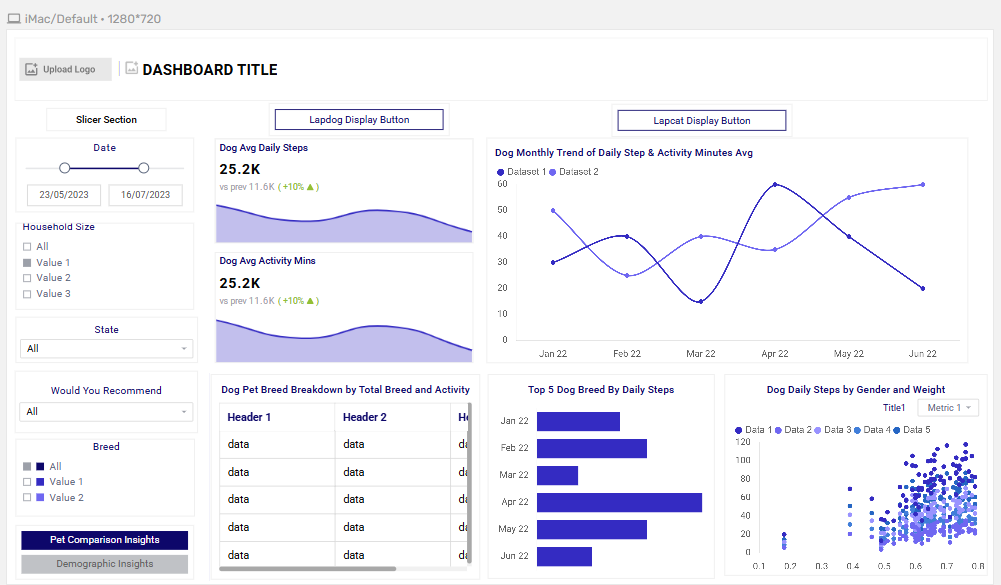

The dashboard page shown, as its layout file describes it:
{"tool":"powerbi","page":{"name":"Pet Comparison Insights","canvas":[1280,720],"ordinal":1},"visuals":[{"type":"shape","box":[246.2,6.8,1022,52.8],"z":0},{"type":"shape","box":[255,262.8,392.8,132.9],"z":1000},{"type":"areaChart","title":"Dog Monthly Trend of Daily_Step & Activity Minutes Avg","fields":{"Category":["Date_Table.Date.Variation.Date Hierarchy.Month"],"Y":["Avg(Tracker_Data.Daily_Steps)"],"Y2":["Avg(Tracker_Data.Activity_Minutes)"]},"box":[656.9,125.3,612.9,270.9],"z":2000},{"type":"image","title":"Lapdog Image Exec","box":[853.8,11.3,178.6,38.7],"z":3000},{"type":"scatterChart","title":"Dog Daily_Steps by Gender and Weight","fields":{"Series":["Pet_Data.Gender"],"X":["Pet_Data.Weight"],"Y":["Sum(Tracker_Data.Daily_Steps)"]},"box":[890.6,411.4,377.6,298],"z":4000},{"type":"barChart","title":"Dog Top 5 Dog breed by Daily_Steps","fields":{"Category":["Pet_Data.Breed"],"Y":["Sum(Tracker_Data.Daily_Steps)"]},"box":[607.8,411.4,267.5,298],"z":5000},{"type":"shape","box":[255,129,393.8,131.9],"z":6000},{"type":"card","title":"Dog Avg Daily Steps","fields":{"Values":["CountNonNull(Tracker_Data.Pet_ID)"]},"box":[262.8,135.8,143.6,70.4],"z":7000},{"type":"card","title":"Dog Avg Activity Mins","fields":{"Values":["Avg(Tracker_Data.Activity_Minutes)"]},"box":[255,268.7,154.4,72.3],"z":8000},{"type":"areaChart","title":"Dog Activity_Minutes by Month_Short","fields":{"Category":["Date_Table.Month_Short"],"Y":["Sum(Tracker_Data.Activity_Minutes)"]},"box":[406.5,271.6,241.3,115.3],"z":9000},{"type":"areaChart","title":"Dog Average of Daily_Steps by Month","fields":{"Category":["Date_Table.Date.Variation.Date Hierarchy.Month"],"Y":["Avg(Tracker_Data.Daily_Steps)"]},"box":[406.3,133.8,242.1,116.8],"z":10000},{"type":"image","box":[1093.6,12,166.7,39.4],"z":11000},{"type":"tableEx","title":"Dog Pet Breed Breakdown by Total Breed and Activities","fields":{"Values":["Pet_Data.Breed","CountNonNull(Pet_Data.Breed)","Tracker_Data.Pet_ID"]},"box":[262.4,408,333.5,298],"z":12000},{"type":"textbox","box":[302.9,343,106.5,29.3],"z":13000},{"type":"card","title":"Dog Card","fields":{"Values":["03_Dax Measures.Average Activity MoM % - Dog"]},"box":[255,338.1,54.7,42],"z":14000},{"type":"card","title":"Dog Card","fields":{"Values":["03_Dax Measures.Average Daily_Step MoM % - Dog"]},"box":[255,206.2,54.7,43],"z":15000},{"type":"textbox","box":[302.9,213,103.6,38.1],"z":16000},{"type":"actionButton","title":"Lapcat Button On","box":[954.9,73,158.6,38.8],"z":29000},{"type":"actionButton","title":"Lapdog Button On","box":[503.1,59.3,247.6,61.6],"z":32000},{"type":"shape","title":"Waggle logo","box":[6.8,6.8,239,700.6],"z":33000},{"type":"image","box":[21.5,6.8,203.2,86],"z":34000},{"type":"textbox","box":[1034.7,16,61.6,43.4],"z":35000},{"type":"shape","box":[8.8,92.8,235.5,14.7],"z":36000},{"type":"shape","box":[5.1,614.6,220.1,15.2],"z":37000},{"type":"textbox","box":[24.4,108.5,203.2,27.4],"z":38000},{"type":"pageNavigator","title":"Page navigator1","box":[14.7,668.3,203.2,30.3],"z":39000},{"type":"pageNavigator","title":"Page navigator1","box":[14.7,630.2,203.2,30.3],"z":40000},{"type":"slicer","title":"Date","fields":{"Values":["Date_Table.Date"]},"box":[12.7,145.6,228.6,93.8],"z":41000},{"type":"slicer","title":"Household_Size","fields":{"Values":["Family_Data.Household Category"]},"box":[13.7,246.2,219.8,94.8],"z":42000},{"type":"slicer","title":"State","fields":{"Values":["Family_Data.State"]},"box":[13.7,347.8,218.9,60.6],"z":43000},{"type":"slicer","title":"Slicer Would you Recommend","fields":{"Values":["Rating_Data.Would You Recommend this Product?","Rating_Data.Where Did You Buy This Product?"]},"box":[14.7,417.2,218.9,74.3],"z":44000},{"type":"slicer","title":"Breed","fields":{"Values":["Pet_Data.Breed"]},"box":[14.7,498.3,217.9,114.3],"z":45000},{"type":"textbox","box":[263.4,7.3,570.7,52.7],"z":46000}]}

Visuals, with their boxes on the page's 1280x720 design canvas (x1, y1, x2, y2). These are canvas units, not pixel positions in the 1001x585 screenshot, which may show the page scaled, cropped or inside an application window:
shape: box(246, 7, 1268, 60)
shape: box(255, 263, 648, 396)
"Dog Monthly Trend of Daily_Step & Activity Minutes Avg" areaChart: box(657, 125, 1270, 396)
"Lapdog Image Exec" image: box(854, 11, 1032, 50)
"Dog Daily_Steps by Gender and Weight" scatterChart: box(891, 411, 1268, 709)
"Dog Top 5 Dog breed by Daily_Steps" barChart: box(608, 411, 875, 709)
shape: box(255, 129, 649, 261)
"Dog Avg Daily Steps" card: box(263, 136, 406, 206)
"Dog Avg Activity Mins" card: box(255, 269, 409, 341)
"Dog Activity_Minutes by Month_Short" areaChart: box(406, 272, 648, 387)
"Dog Average of Daily_Steps by Month" areaChart: box(406, 134, 648, 251)
image: box(1094, 12, 1260, 51)
"Dog Pet Breed Breakdown by Total Breed and Activities" tableEx: box(262, 408, 596, 706)
textbox: box(303, 343, 409, 372)
"Dog Card" card: box(255, 338, 310, 380)
"Dog Card" card: box(255, 206, 310, 249)
textbox: box(303, 213, 406, 251)
"Lapcat Button On" actionButton: box(955, 73, 1114, 112)
"Lapdog Button On" actionButton: box(503, 59, 751, 121)
"Waggle logo" shape: box(7, 7, 246, 707)
image: box(22, 7, 225, 93)
textbox: box(1035, 16, 1096, 59)
shape: box(9, 93, 244, 108)
shape: box(5, 615, 225, 630)
textbox: box(24, 108, 228, 136)
"Page navigator1" pageNavigator: box(15, 668, 218, 699)
"Page navigator1" pageNavigator: box(15, 630, 218, 660)
"Date" slicer: box(13, 146, 241, 239)
"Household_Size" slicer: box(14, 246, 234, 341)
"State" slicer: box(14, 348, 233, 408)
"Slicer Would you Recommend" slicer: box(15, 417, 234, 492)
"Breed" slicer: box(15, 498, 233, 613)
textbox: box(263, 7, 834, 60)
